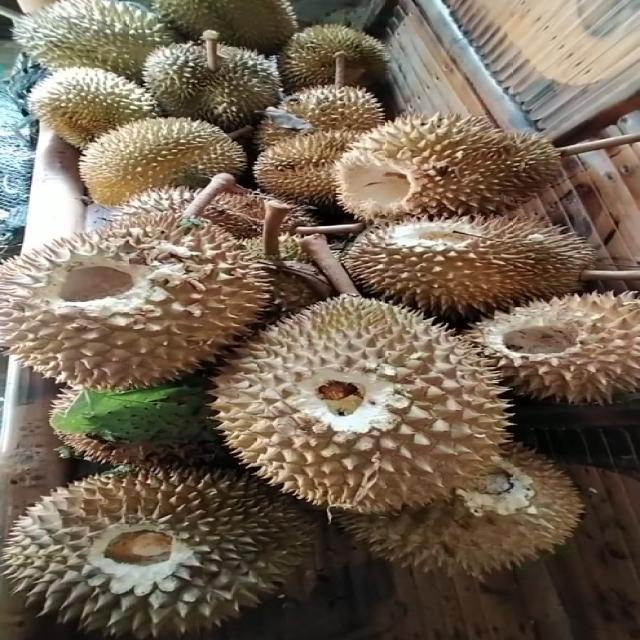defective: (210, 295, 514, 514), (3, 459, 323, 640), (5, 210, 279, 397), (344, 220, 614, 324), (328, 113, 564, 225), (460, 287, 640, 413)
immature: (81, 111, 254, 211), (138, 40, 293, 135), (26, 66, 165, 156)
